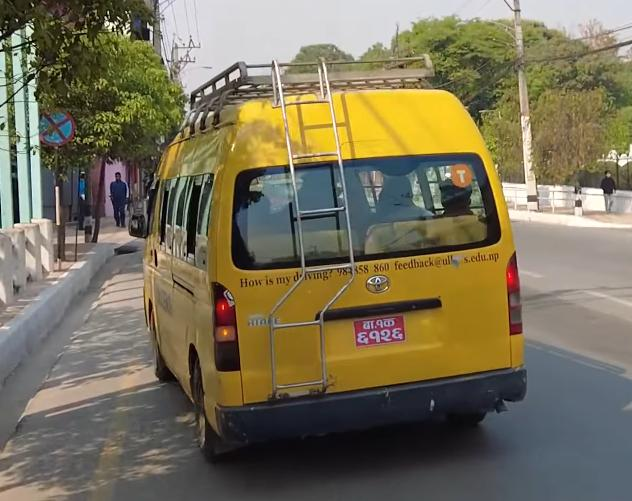school_bus: (131, 55, 528, 466)
